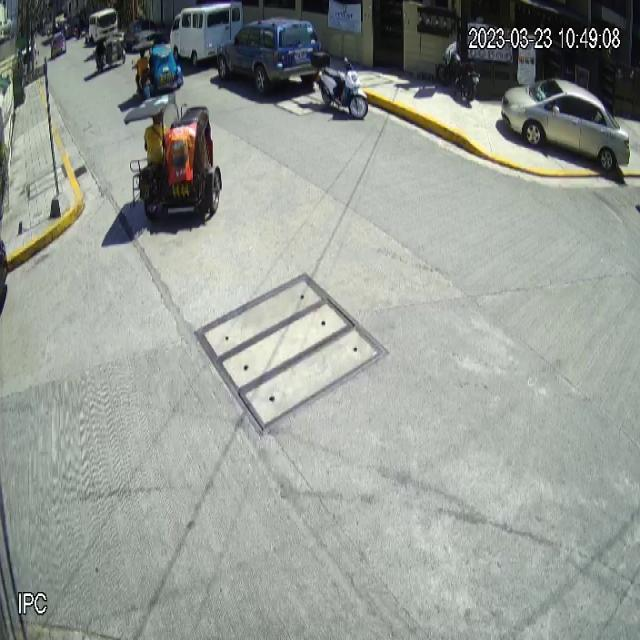Car: (500, 76, 630, 173), (217, 16, 322, 95)
Motorcycle: (311, 51, 368, 120)
Tricycle: (124, 89, 223, 222)
Van: (170, 0, 244, 67)
